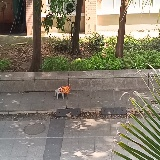fire: (59, 84, 71, 92)
